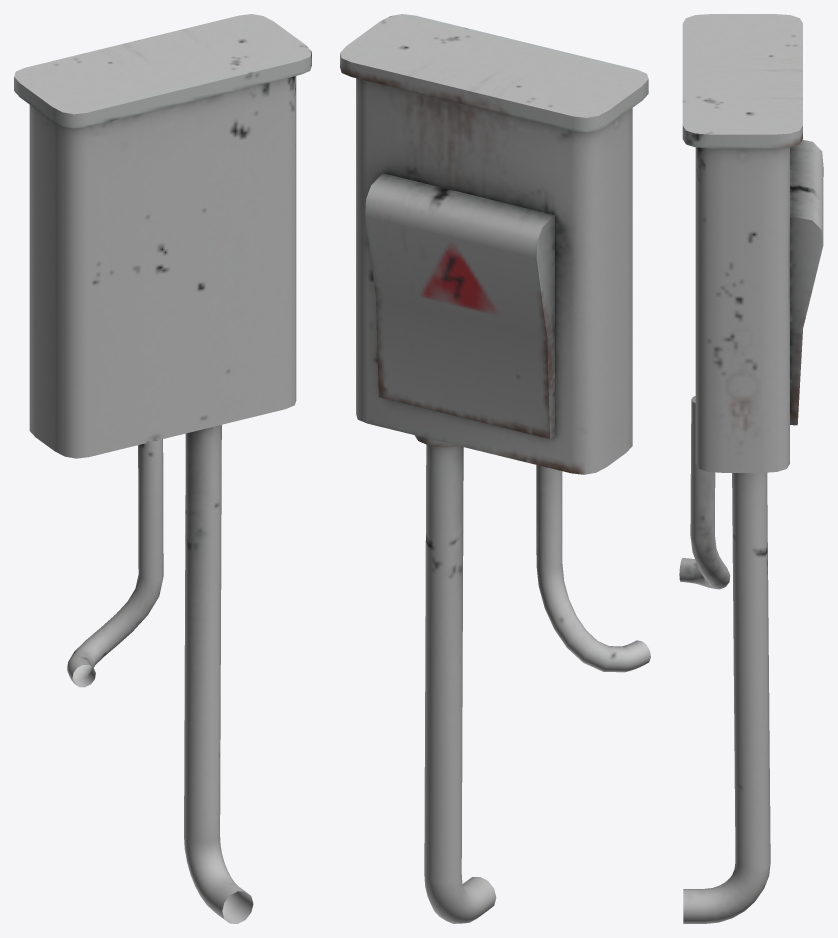
The model's file is Prop_ElectricBox_05.fbx.
The picture shows the model from 3 angles, left to right: view 1: azimuth 30°, elevation 25°; view 2: azimuth 150°, elevation 25°; view 3: azimuth 270°, elevation 25°; orthographic projection. The views are drawn at different scales.
Visible parts, largest first — view 1: Prop_ElectricBox_05; view 2: Prop_ElectricBox_05; view 3: Prop_ElectricBox_05.
Boxes of the visible parts, left/top/right/bottom form: Prop_ElectricBox_05: left=14, top=14, right=311, bottom=923; Prop_ElectricBox_05: left=340, top=14, right=650, bottom=923; Prop_ElectricBox_05: left=679, top=14, right=823, bottom=923.
Bounding box in the file's own units: 10.47 × 33.47 × 5.29.
